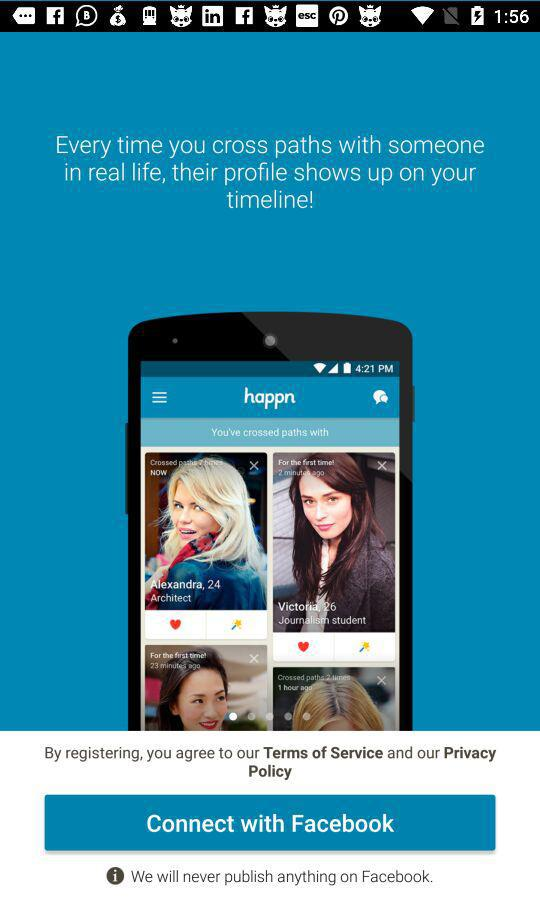Icon: (107, 867, 125, 885)
Image: (125, 311, 416, 731)
PageIndicator: (229, 712, 312, 722)
Text: (57, 136, 485, 210), (45, 745, 497, 781), (131, 869, 433, 887)
TextButton: (45, 794, 496, 851)
UpperTaskBar: (1, 1, 540, 33)
